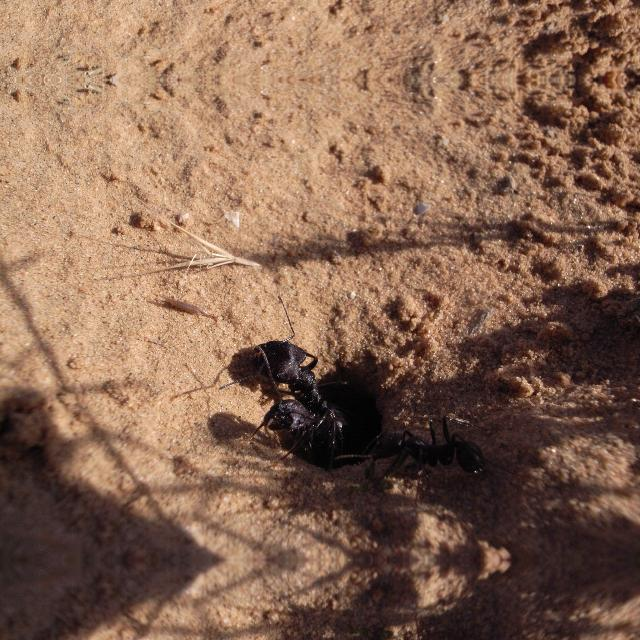Messor: (246, 323, 360, 437), (358, 400, 492, 496), (253, 392, 339, 464)
